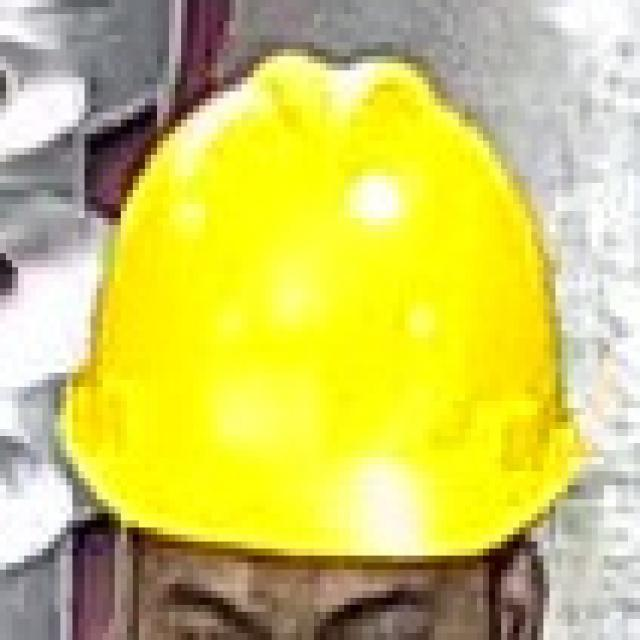yellow helmet: (52, 48, 600, 558)
